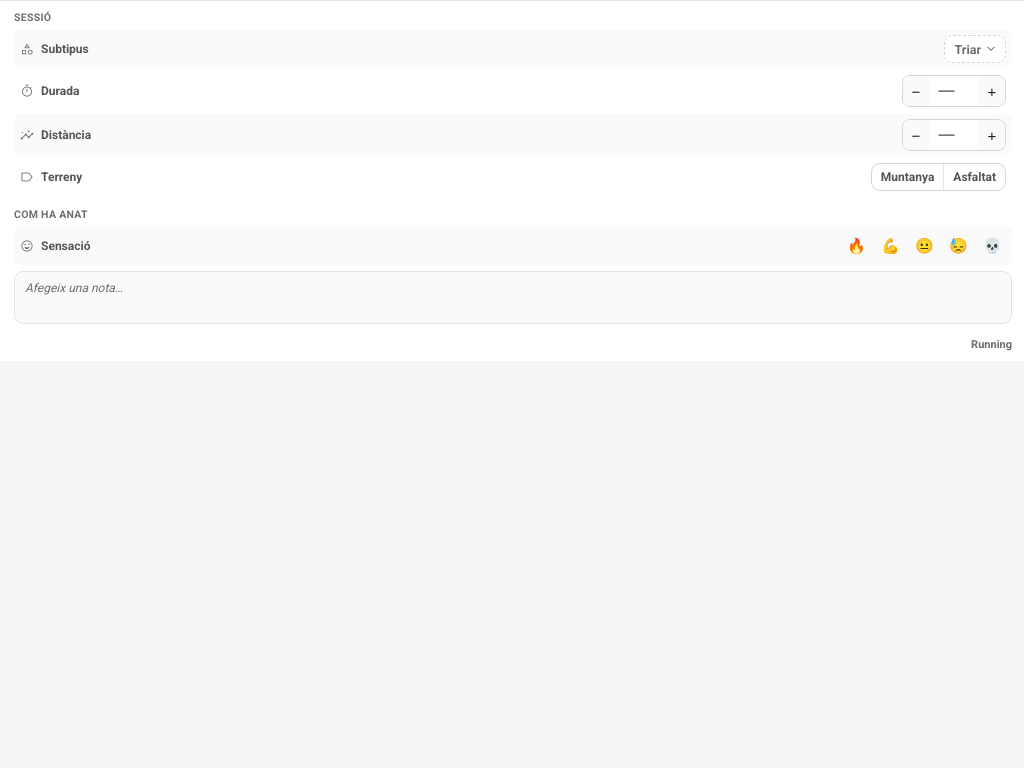
Test: SportDetailComponent › editable › una tria llarga no es pinta sencera: s'obre en una fulla
The width and height of the screenshot is (1024, 768).
Step 1. Click the button with class "sdv-pick" → (975, 49), box top-left (944, 35), bottom-right (1006, 63)
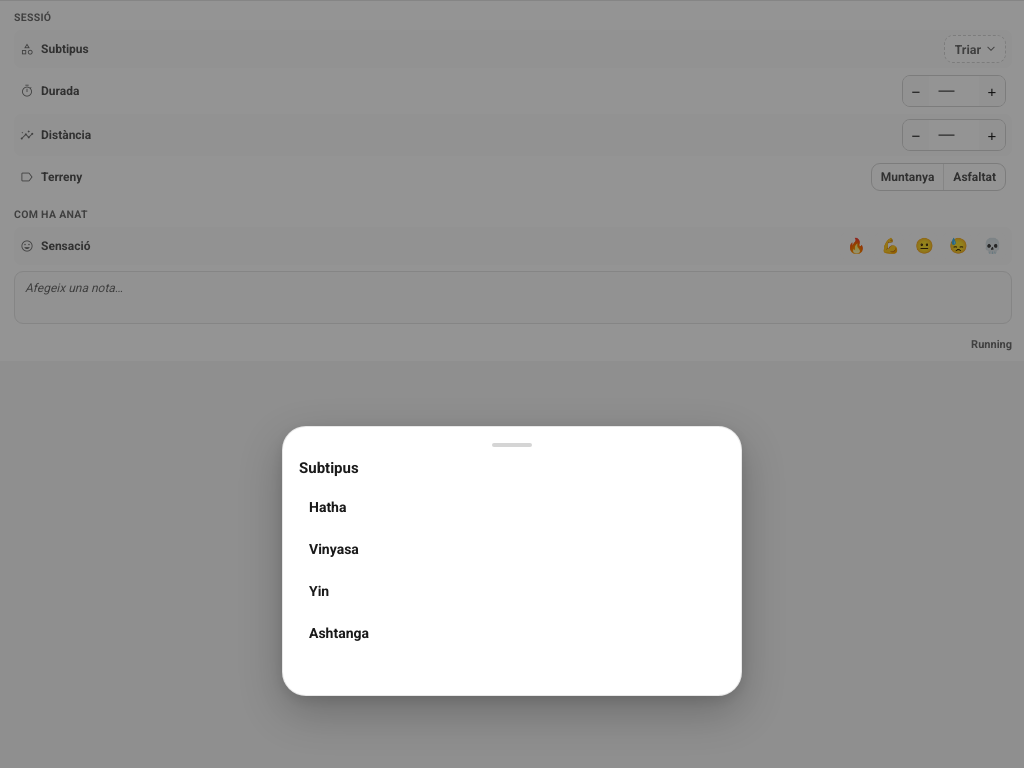
expect the number of buttons with class "sdv-sheet-opt" is 4: met, box top-left (295, 487), bottom-right (729, 527); top-left (295, 529), bottom-right (729, 569); top-left (295, 571), bottom-right (729, 611); top-left (295, 613), bottom-right (729, 653)
